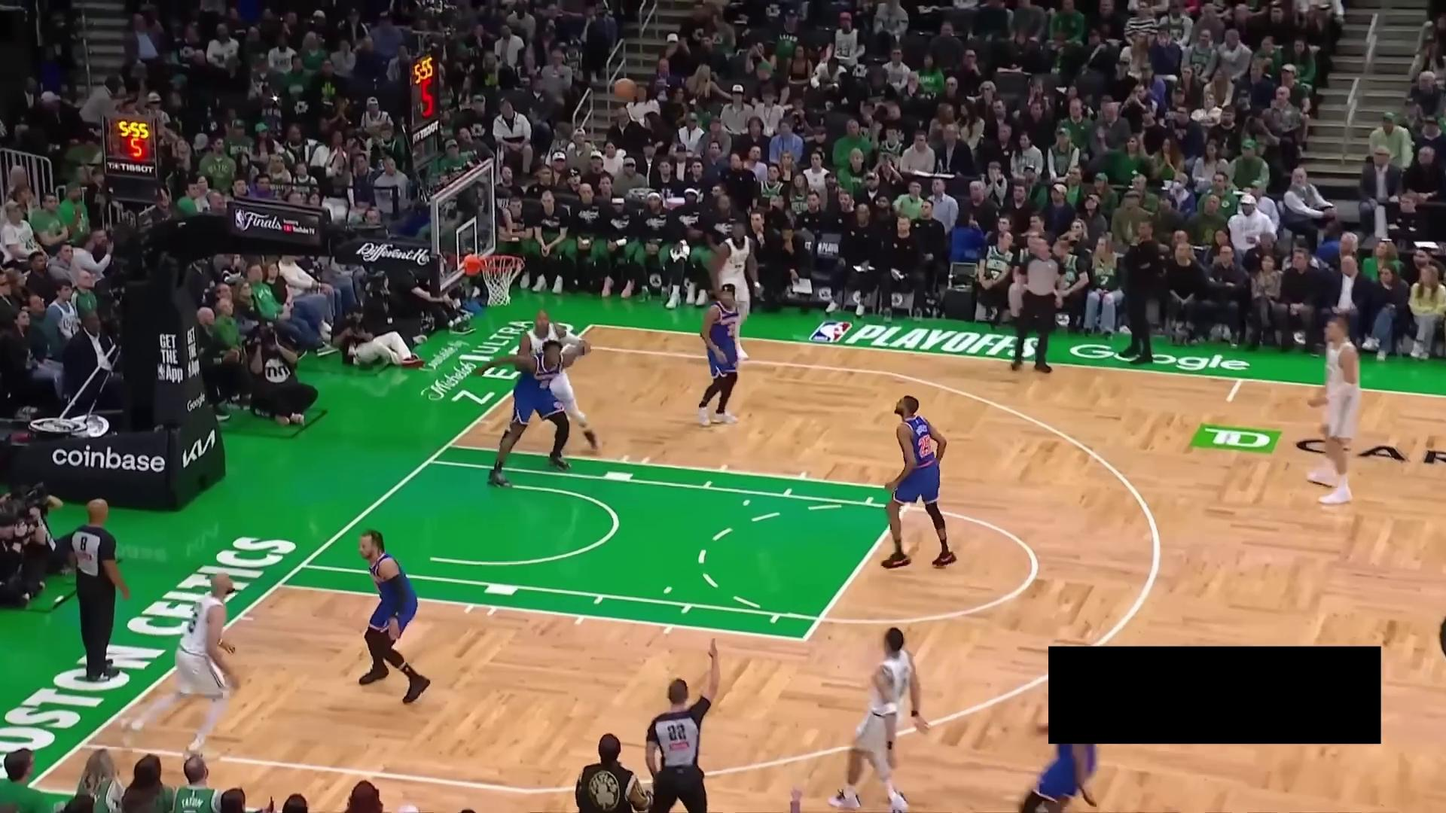ball: (612, 78, 637, 100)
number: (917, 432, 933, 459), (726, 321, 737, 338), (732, 262, 744, 276)
player: (123, 562, 248, 757), (832, 625, 935, 813), (473, 336, 597, 489), (874, 391, 967, 569), (508, 304, 609, 463), (351, 528, 433, 705), (1301, 317, 1369, 514), (704, 218, 764, 358), (692, 280, 745, 429), (1019, 738, 1104, 813)
referee: (637, 636, 723, 813), (66, 494, 136, 680), (1006, 233, 1069, 374)
rim: (479, 254, 525, 271)
